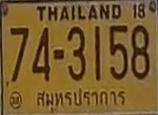1: (94, 26, 100, 80)
3: (67, 26, 85, 80)
4: (31, 26, 49, 80)
5: (108, 24, 128, 79)
7: (10, 27, 29, 80)
8: (130, 25, 150, 78)
SPK: (34, 86, 127, 112)
